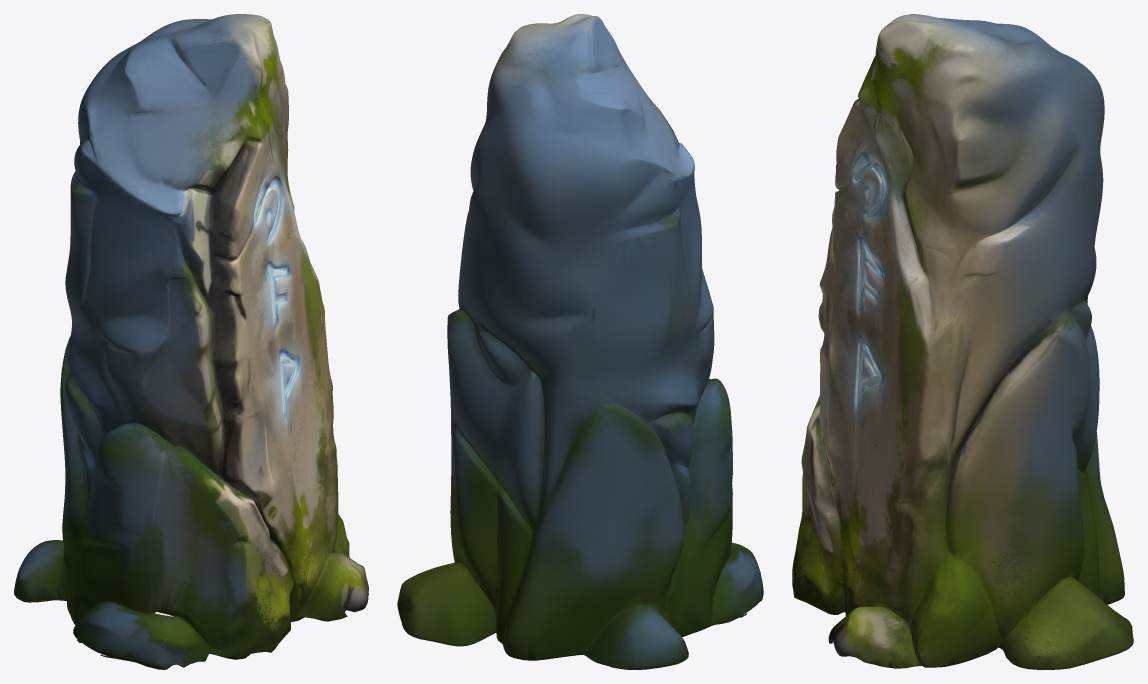
Rendered from stone_hy_runes_full1k.glb.
The picture shows the model from 3 angles, left to right: view 1: azimuth 30°, elevation 25°; view 2: azimuth 150°, elevation 25°; view 3: azimuth 270°, elevation 25°; orthographic projection. The views are drawn at different scales.
Visible parts, largest first — view 1: stone_hy_runes_full1k; view 2: stone_hy_runes_full1k; view 3: stone_hy_runes_full1k.
Boxes of the visible parts, x1=… form: stone_hy_runes_full1k: x1=14, y1=14, x2=368, y2=669; stone_hy_runes_full1k: x1=397, y1=14, x2=763, y2=669; stone_hy_runes_full1k: x1=792, y1=14, x2=1133, y2=669.
Bounding box in the file's own units: 2.14 × 4.13 × 2.15.
Materials: 1 (1 with a texture image).
